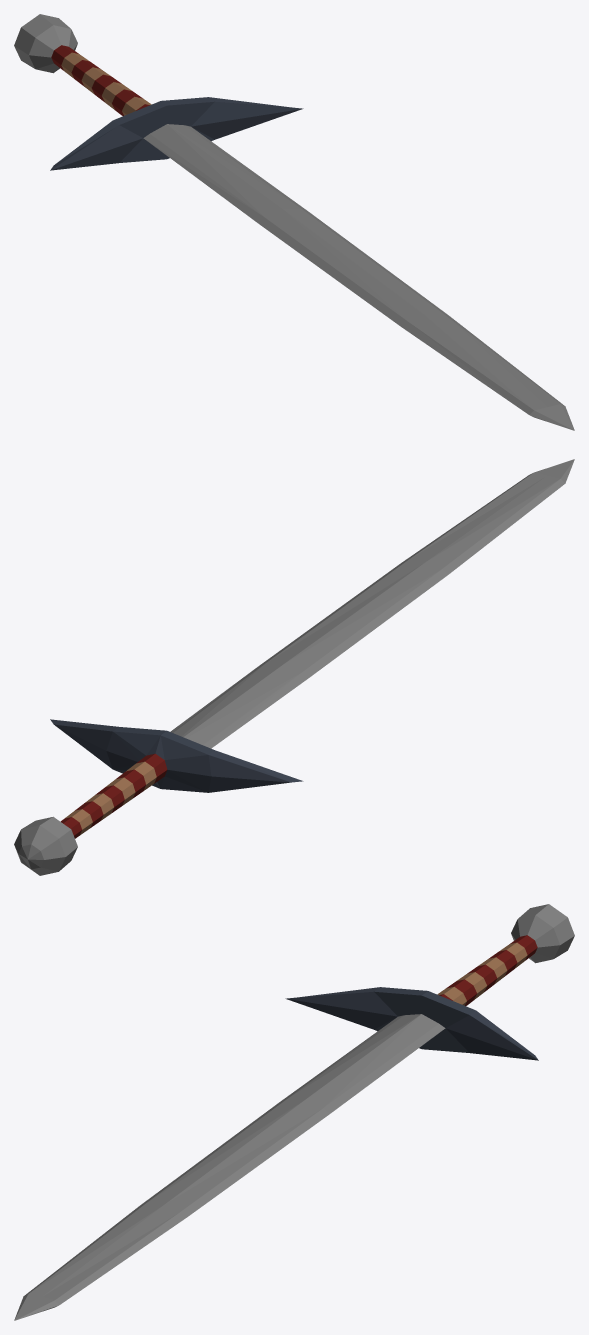
The model's file is Sword.fbx.
3 views of the same model, one above another, from view 1: azimuth 30°, elevation 25°; view 2: azimuth 150°, elevation 25°; view 3: azimuth 330°, elevation 25° (orthographic).
Parts seen in each view (by area): view 1: Sword; view 2: Sword; view 3: Sword.
Part boxes in pixels (left/top/right/bottom): Sword: left=14, top=14, right=574, bottom=430; Sword: left=14, top=459, right=574, bottom=875; Sword: left=14, top=904, right=574, bottom=1320.
Size of the model in its own units: 26.26 by 5.31 by 98.05.
